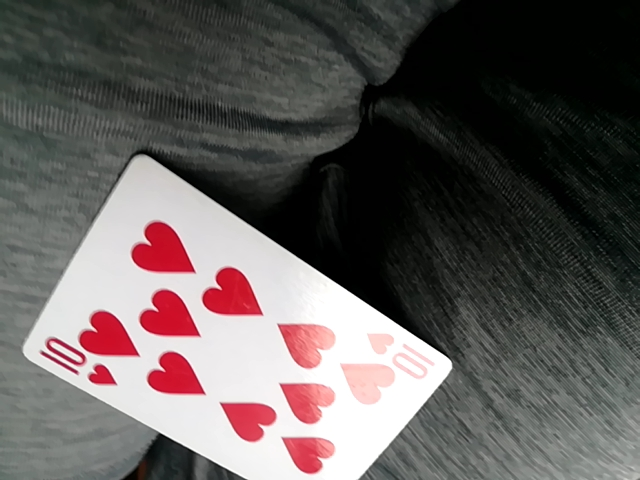hx 10: (25, 148, 455, 480)
